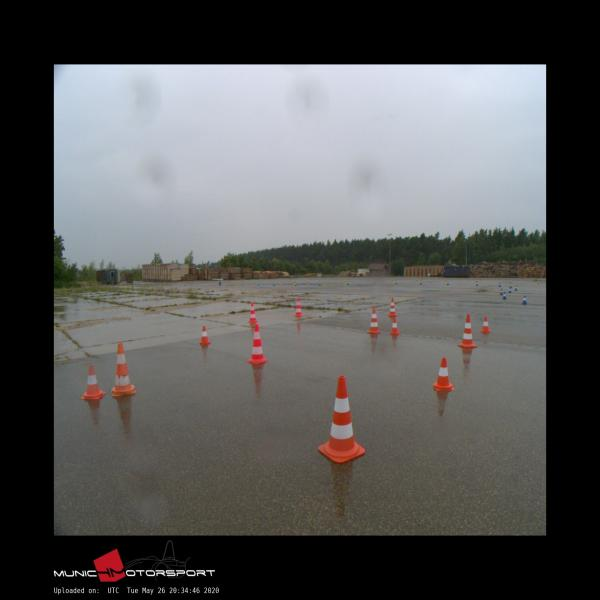blue_cone: (522, 296, 527, 304), (502, 292, 507, 300), (500, 288, 503, 295)
large_orange_cone: (318, 376, 364, 462), (111, 342, 135, 395), (247, 324, 268, 363), (458, 314, 477, 346), (367, 307, 381, 333), (248, 302, 257, 322), (294, 297, 303, 316), (388, 297, 397, 316)
orange_cone: (81, 364, 105, 398), (432, 357, 454, 390), (199, 326, 210, 344), (481, 316, 490, 332), (390, 319, 399, 333)
